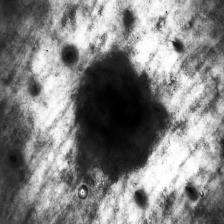Benign Marking or Mole: (77, 53, 161, 167)
